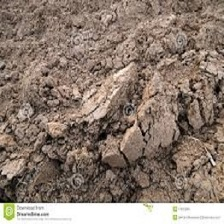loamy_soil: (15, 13, 215, 188)
